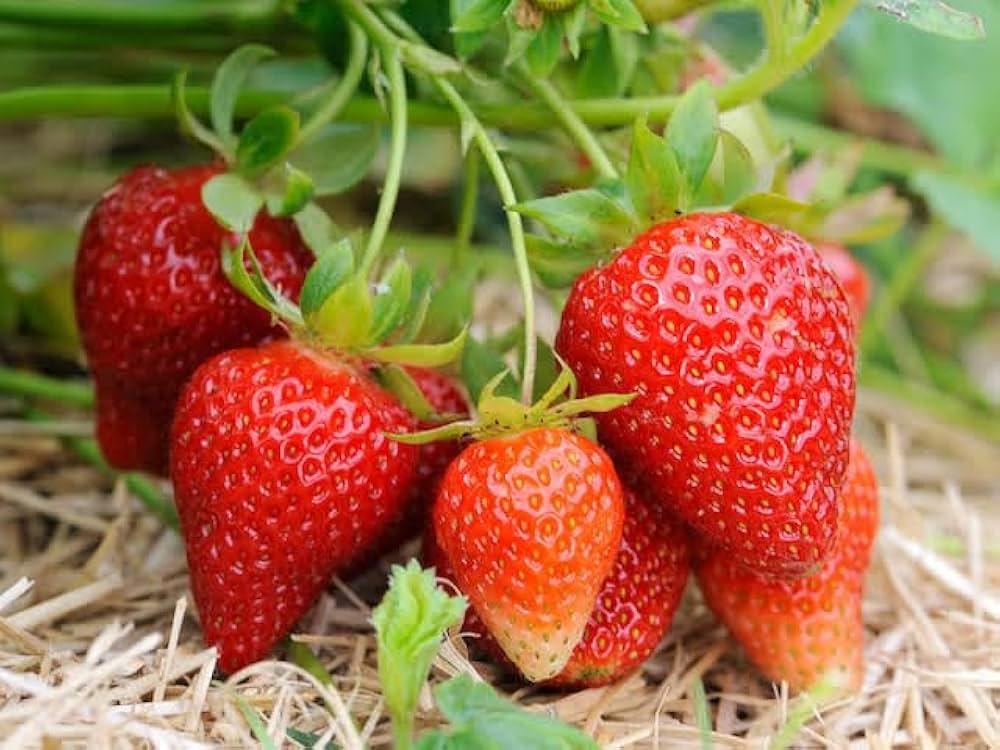strawberry: (513, 79, 859, 574), (141, 238, 436, 691), (409, 371, 611, 674)
